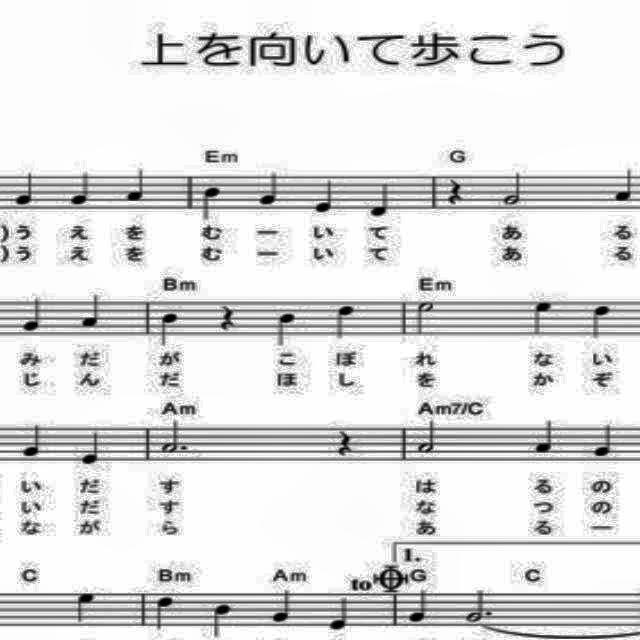Half-rest: (156, 416, 192, 460), (412, 296, 440, 346), (499, 165, 528, 207), (464, 586, 496, 624), (416, 418, 444, 458)
Quarter-note: (527, 296, 561, 340), (18, 418, 50, 462), (530, 416, 564, 456), (156, 306, 184, 354), (584, 300, 616, 340), (328, 588, 354, 636), (122, 160, 150, 204), (308, 174, 336, 218), (368, 180, 397, 222), (78, 288, 104, 334), (268, 586, 296, 628), (588, 420, 616, 460), (15, 166, 40, 210), (200, 184, 226, 226), (612, 166, 640, 204), (20, 298, 48, 336), (208, 602, 236, 640), (258, 166, 282, 210), (332, 300, 358, 340), (150, 590, 173, 634), (276, 308, 300, 350), (408, 585, 432, 627), (68, 168, 92, 208), (71, 590, 97, 626), (79, 429, 103, 467)
Quarter-rest: (212, 297, 240, 335), (445, 172, 467, 208), (335, 422, 353, 462)
